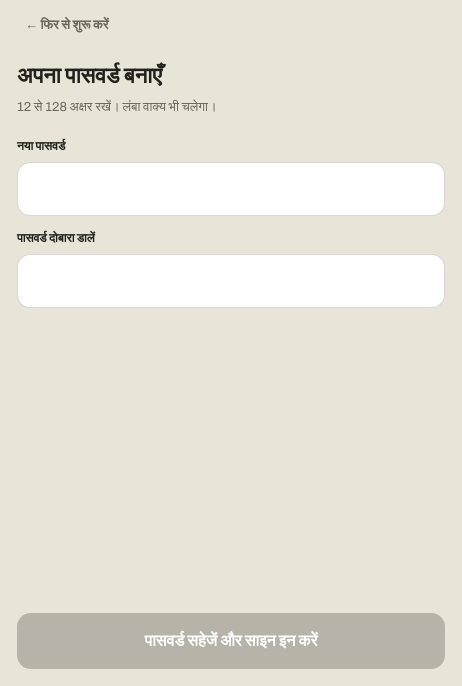
Scenario: every email and password sign-in screen in hi › the password guidance reads in the same language
Type "short" into the password field labelled "नया पासवर्ड" at (231, 189), box left=17, top=162, right=445, bottom=216
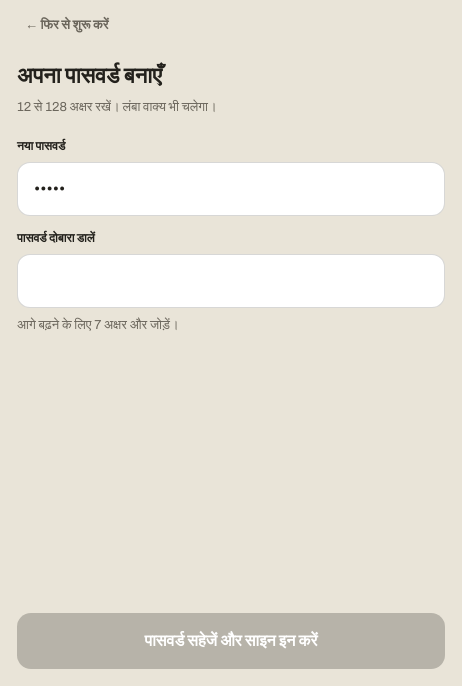
Expected: the text "आगे बढ़ने के लिए 7 अक्षर और जोड़ें।" is shown, left=17, top=318, right=179, bottom=332
